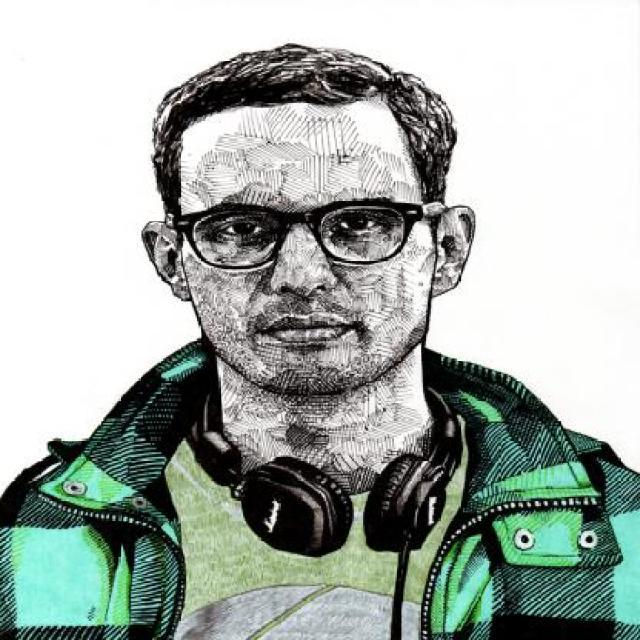earphone: (182, 400, 488, 592)
